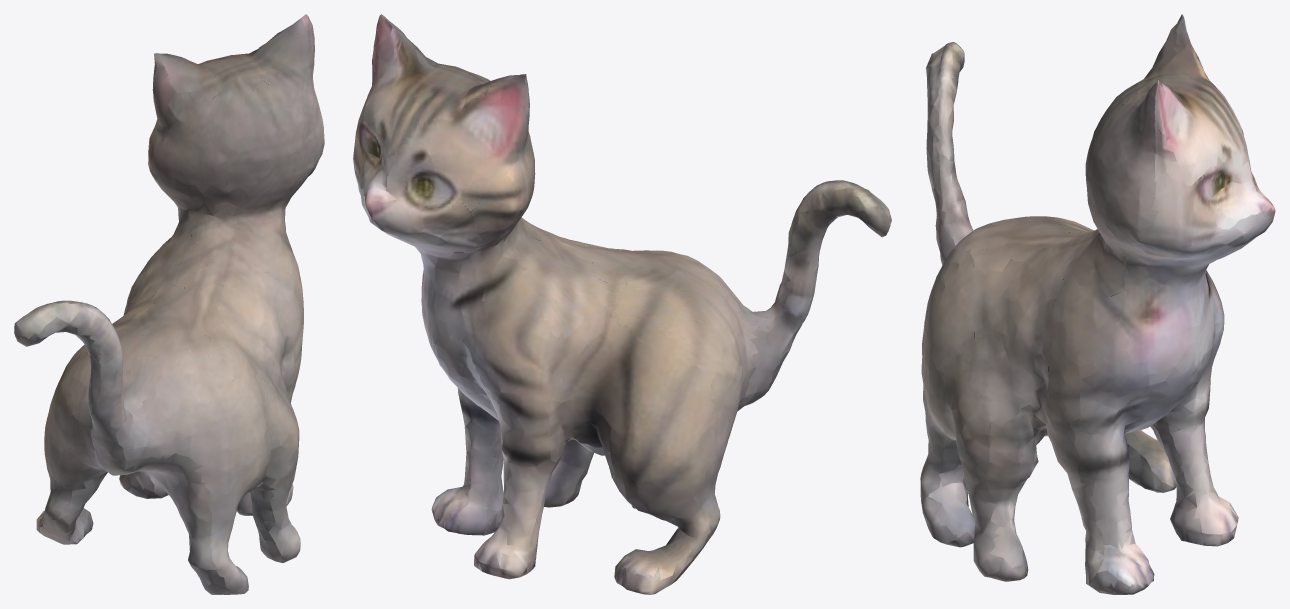
3 renders of one model, left to right at view 1: azimuth 30°, elevation 25°; view 2: azimuth 150°, elevation 25°; view 3: azimuth 270°, elevation 25°, orthographic. The views are drawn at different scales.
Visible parts, largest first — view 1: world; view 2: world; view 3: world.
Boxes of the visible parts, <box> form: world: <box>14,14,324,594</box>; world: <box>353,14,891,594</box>; world: <box>920,14,1275,594</box>.
Bounding box in the file's own units: 0.7701 × 0.886 × 0.5171.
Materials: 1 (1 with a texture image).
